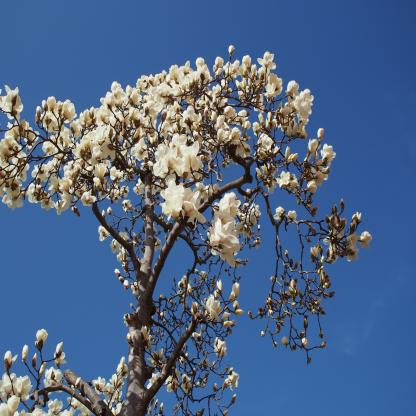Mokuren: (0, 43, 373, 416)
